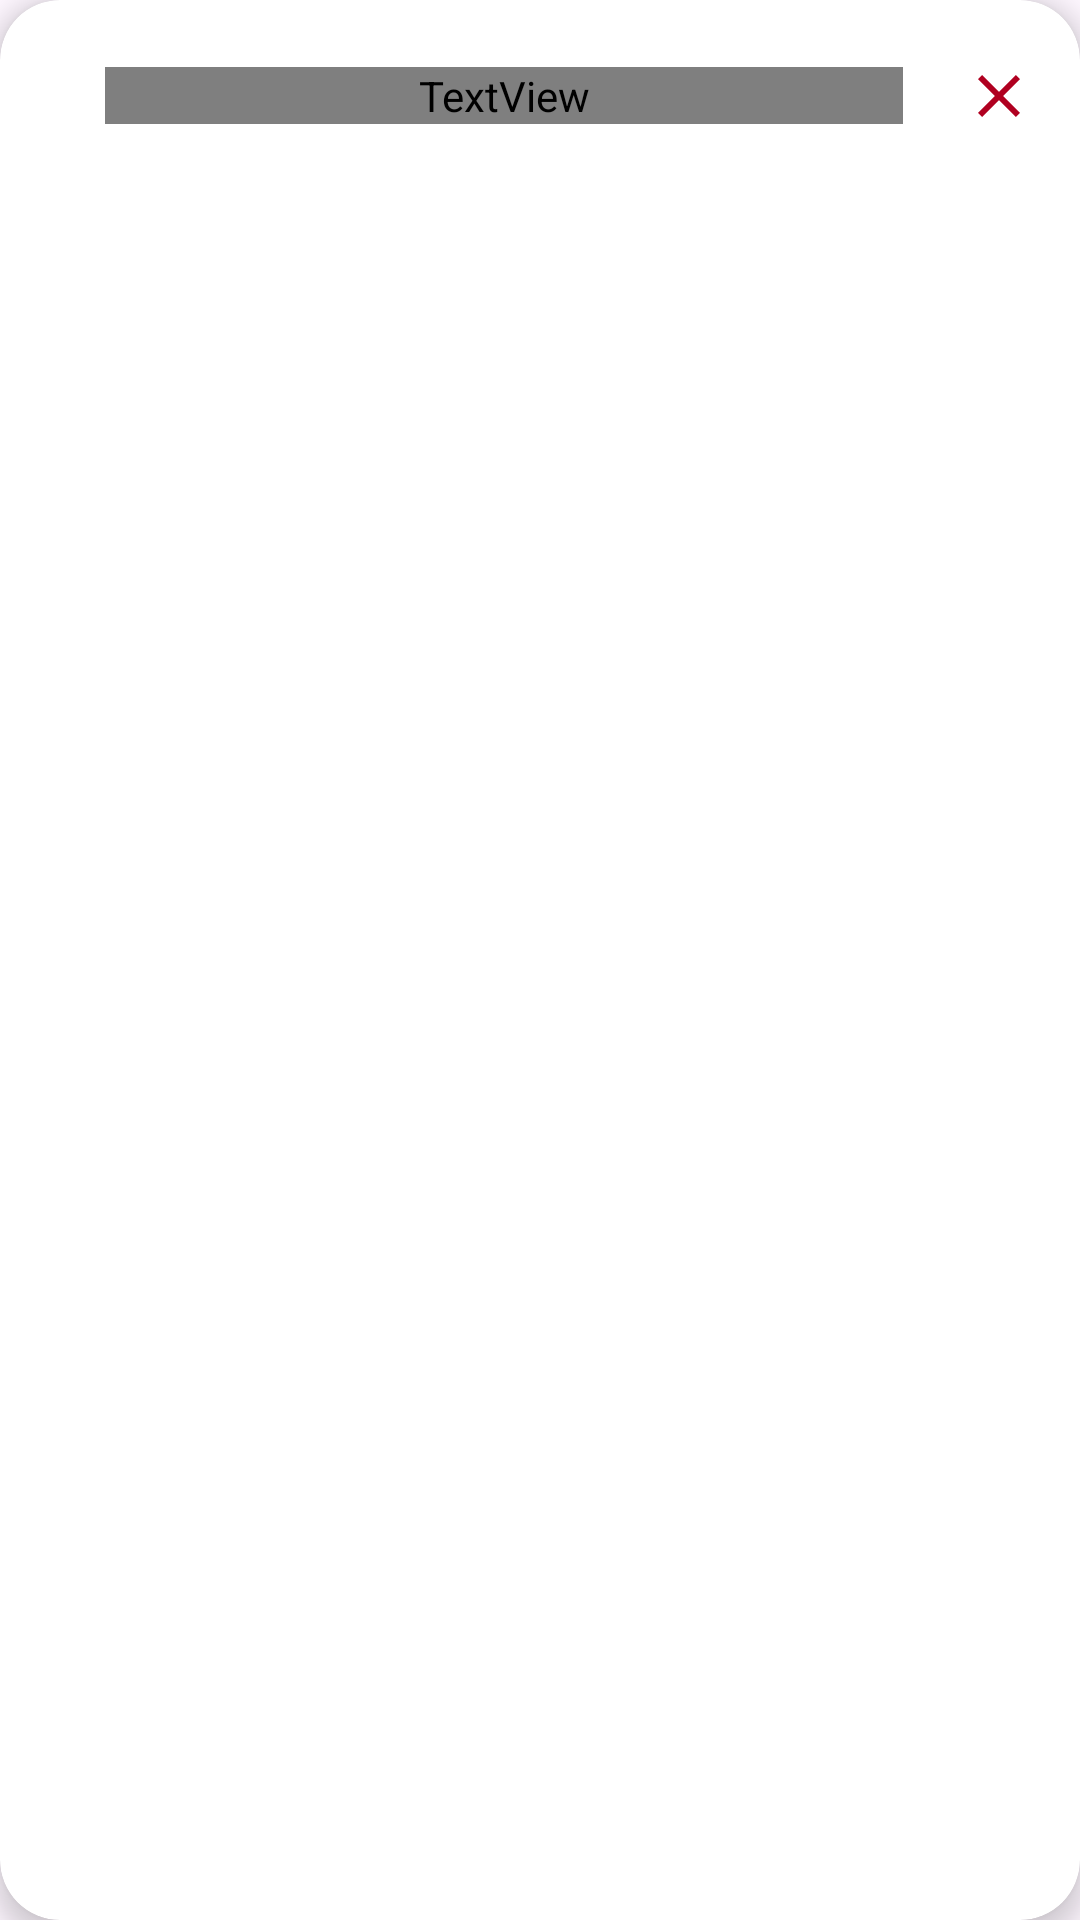

Locate icon controls on the screen. Image size 1080 × 1920, boxes as BBox(x1, y1, x2, y2).
clear: BBox(978, 75, 1020, 117)
